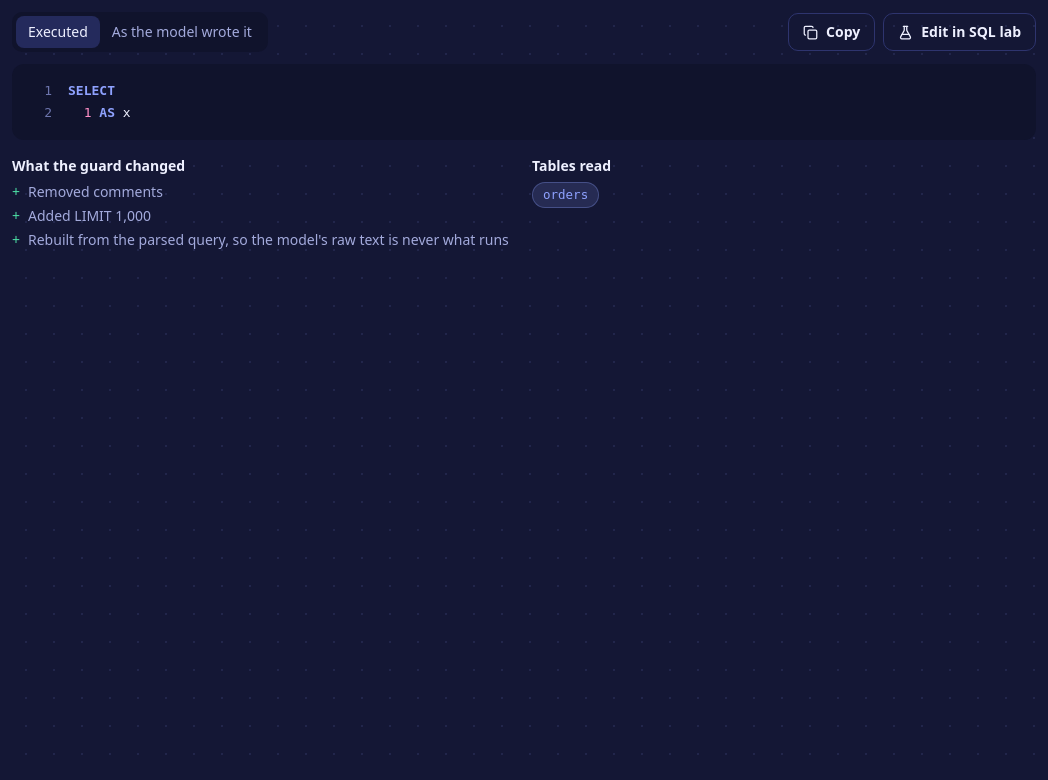
Scenario: SqlPanel › explains what the guard changed and switches between written and executed SQL
Expected: the list item "Removed comments" is shown, [28, 182, 163, 201]
Expected: the list item "Added LIMIT 1,000" is shown, [28, 206, 151, 225]
Click the tab "As the model wrote it": click(182, 32) [100, 16, 264, 48]
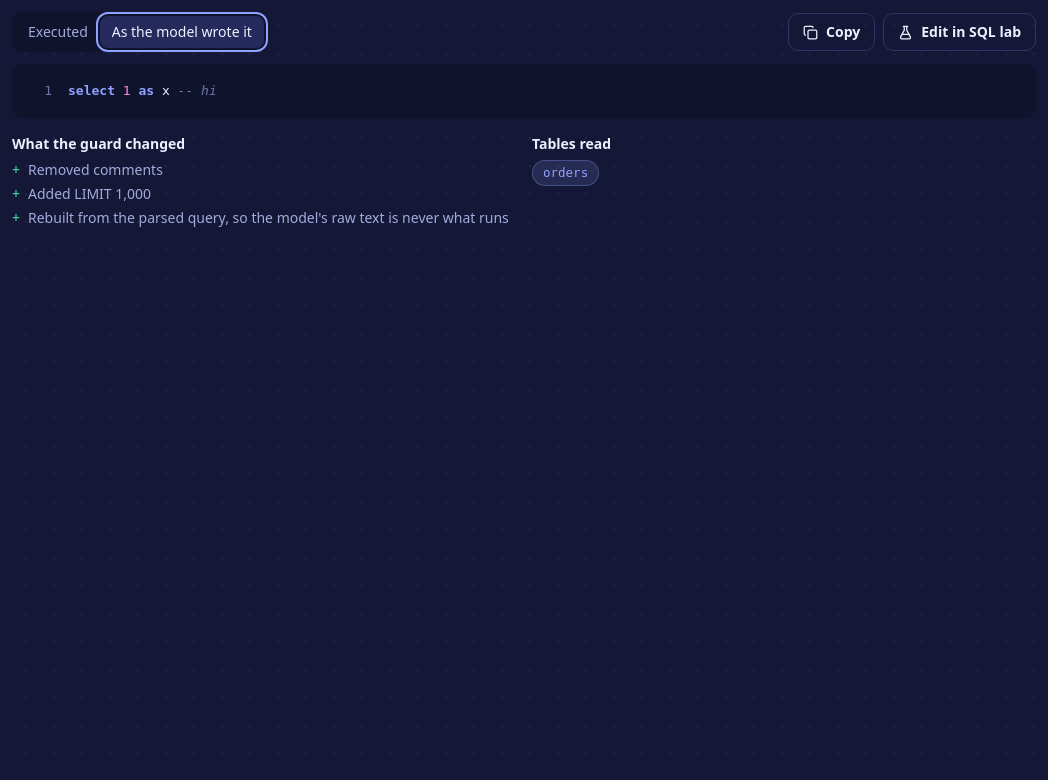
Expected: the text "-- hi" is shown, [178, 83, 217, 98]
